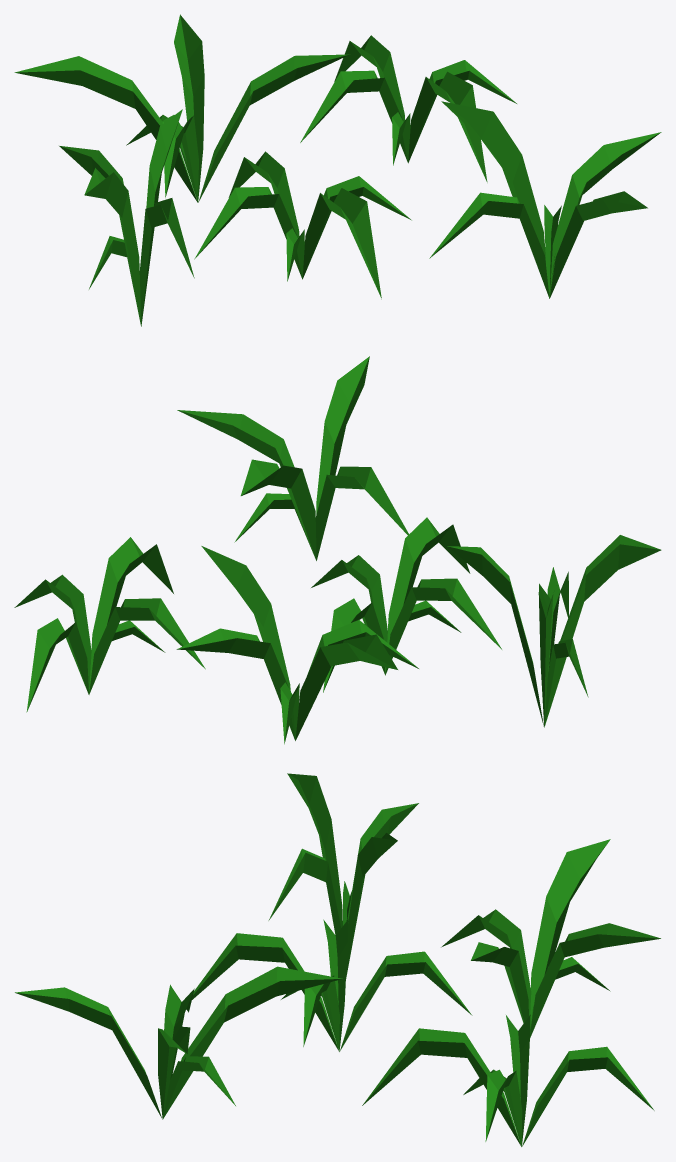
File: grass.fbx
The picture shows the model from 3 angles, top to bottom: view 1: azimuth 30°, elevation 25°; view 2: azimuth 150°, elevation 25°; view 3: azimuth 270°, elevation 25°; orthographic projection. The views are drawn at different scales.
Visible parts, largest first — view 1: grass:polySurface22; view 2: grass:polySurface22; view 3: grass:polySurface22.
Part boxes in pixels (x1,y1,x2,y2): grass:polySurface22: [14, 14, 661, 326]; grass:polySurface22: [14, 356, 661, 744]; grass:polySurface22: [15, 773, 660, 1146].
Size of the model in its own units: 2.38 by 0.7868 by 2.53.
